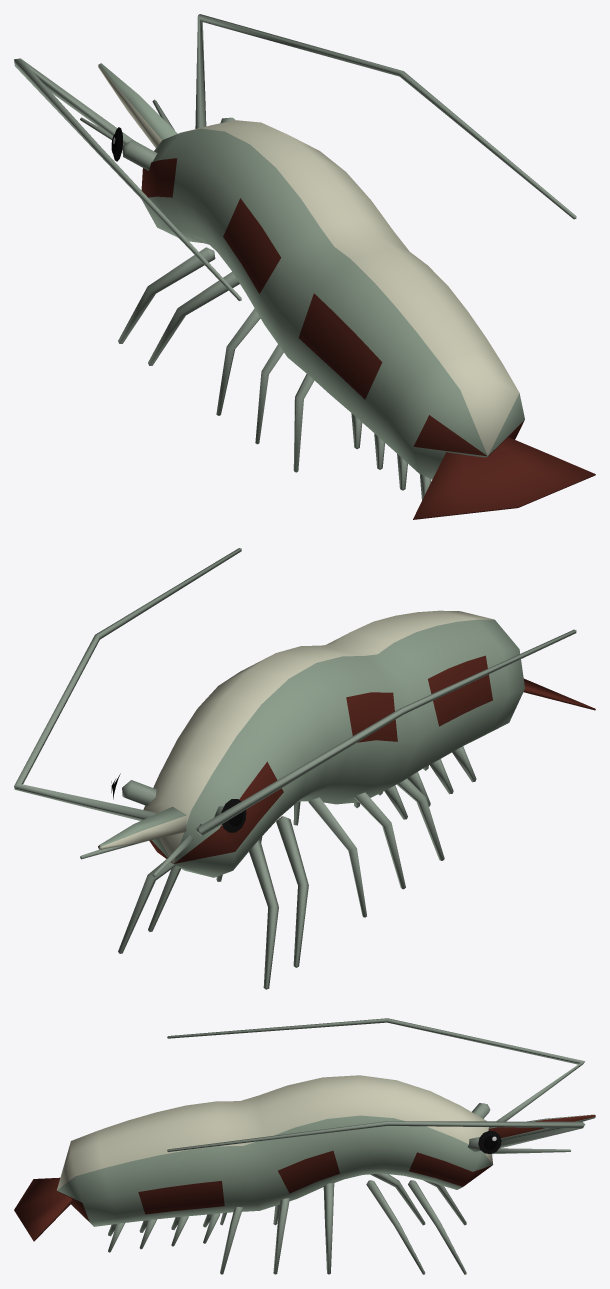
File: amano_shrimp.glb
3 renders of one model, top to bottom at view 1: azimuth 30°, elevation 25°; view 2: azimuth 150°, elevation 25°; view 3: azimuth 270°, elevation 25°, orthographic. The views are drawn at different scales.
Visible parts, largest first — view 1: amano_shrimp; view 2: amano_shrimp; view 3: amano_shrimp.
Boxes of the visible parts, x1=… form: amano_shrimp: x1=14, y1=14, x2=595, y2=519; amano_shrimp: x1=14, y1=548, x2=595, y2=989; amano_shrimp: x1=14, y1=1018, x2=595, y2=1274.
Bounding box in the file's own units: 1.11 × 0.8124 × 2.39.
